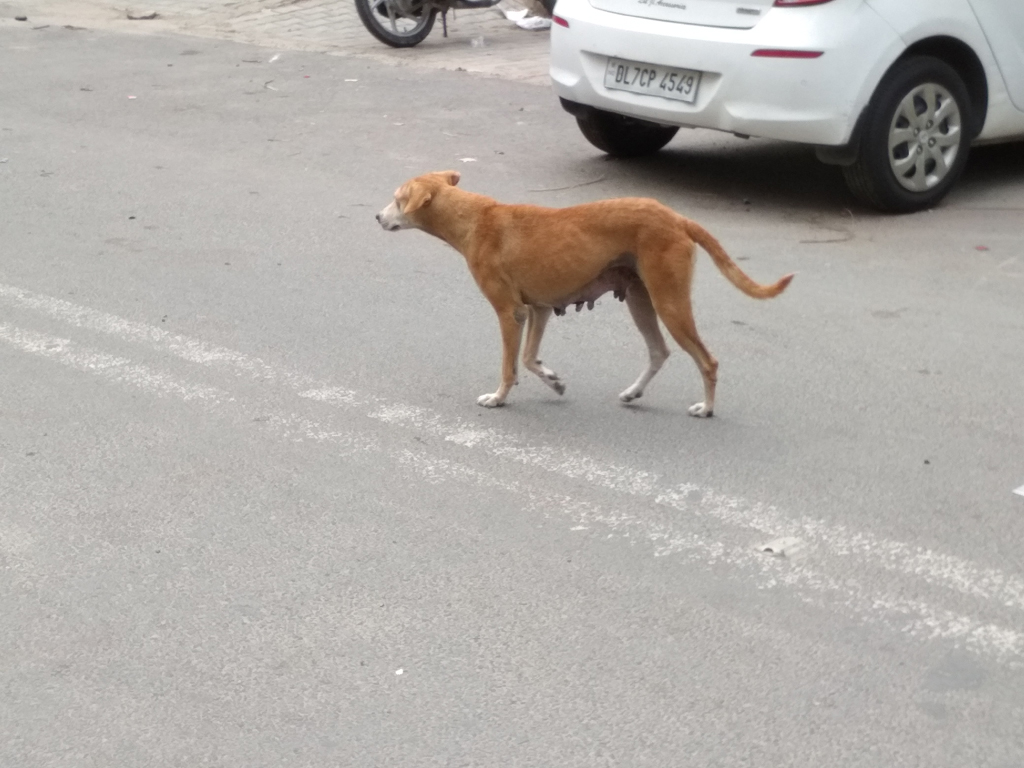dog: (375, 169, 804, 421)
